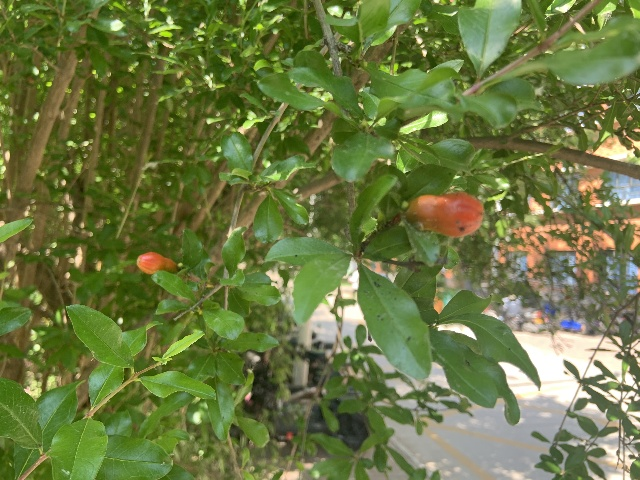bud: (405, 191, 483, 237), (137, 251, 176, 274)
